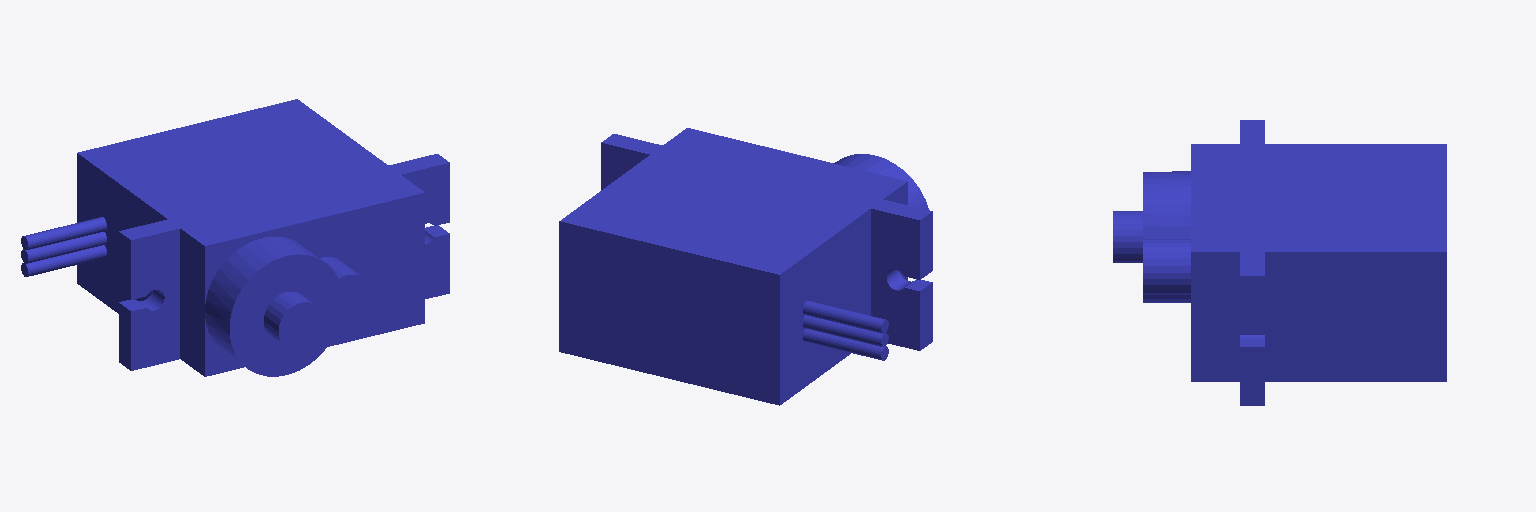
3 renders of one model, left to right at view 1: azimuth 30°, elevation 25°; view 2: azimuth 150°, elevation 25°; view 3: azimuth 270°, elevation 25°, orthographic.
Visible parts, largest first — view 1: Fusion010; view 2: Fusion010; view 3: Fusion010.
Part boxes in pixels (x1,y1,x2,y2): Fusion010: (21,99,449,376); Fusion010: (559,128,932,405); Fusion010: (1113,120,1446,405).
Size of the model in its own units: 35.4 by 12.7 by 29.4.